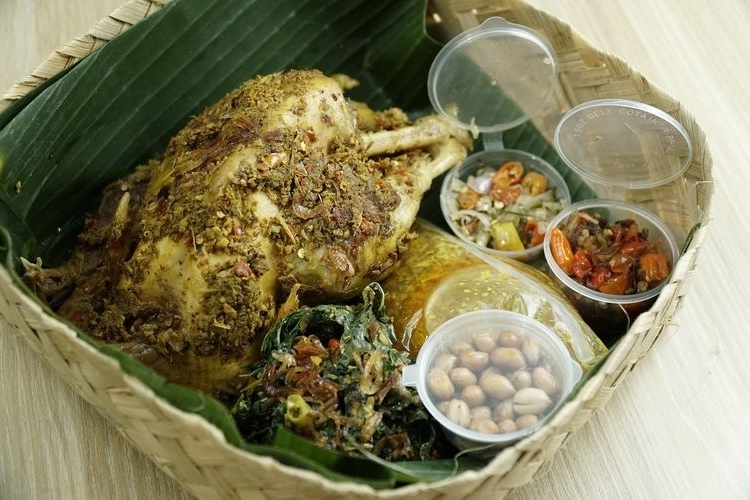ayam_betutu: (88, 70, 463, 307)
